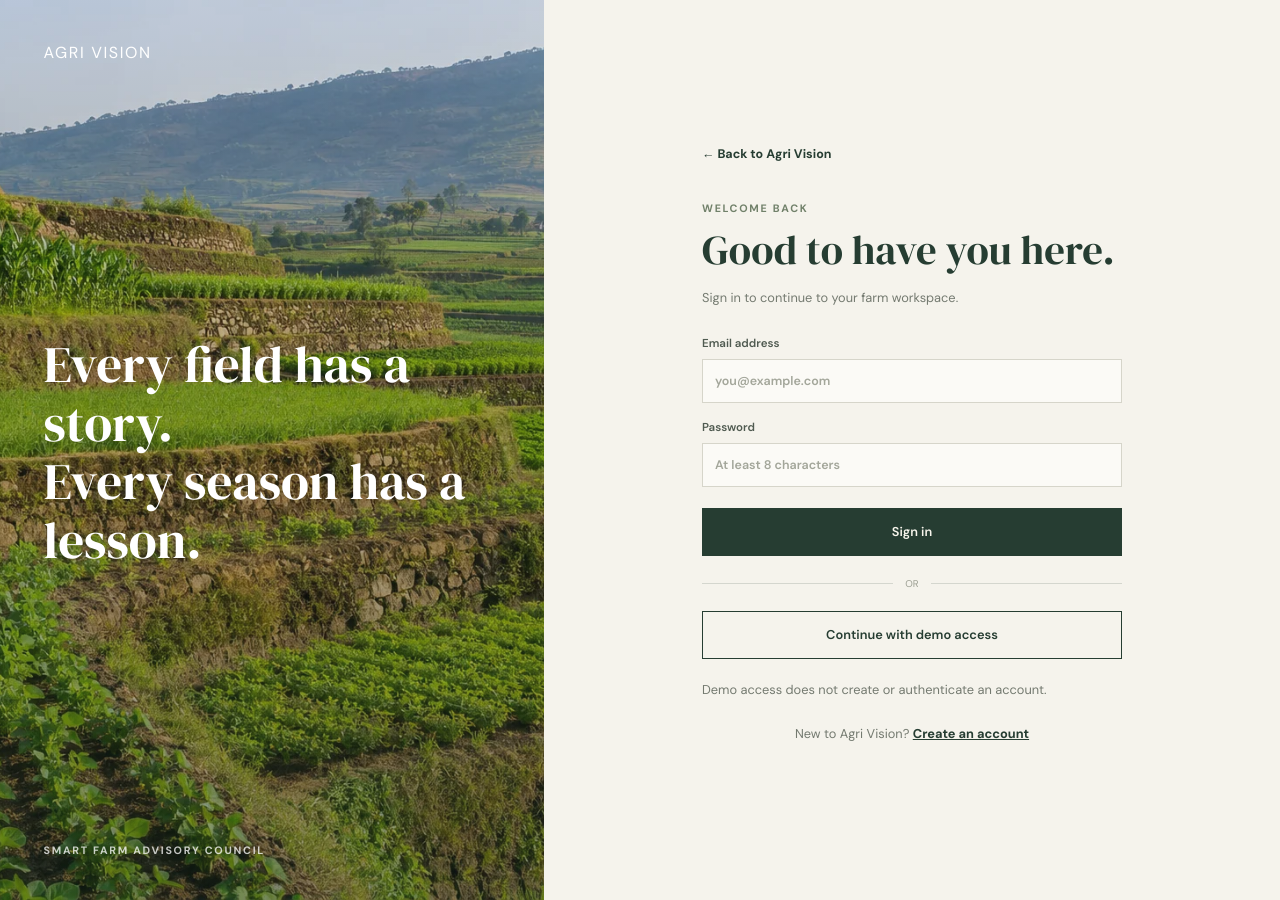
Test: Demo access and account registration UI › registers the selected farm with the backend before navigating to the dashboard
This screenshot has width=1280, height=900.
Click the button "Continue with demo access" at (912, 634), box [702,610,1122,658]
(page scrolled)
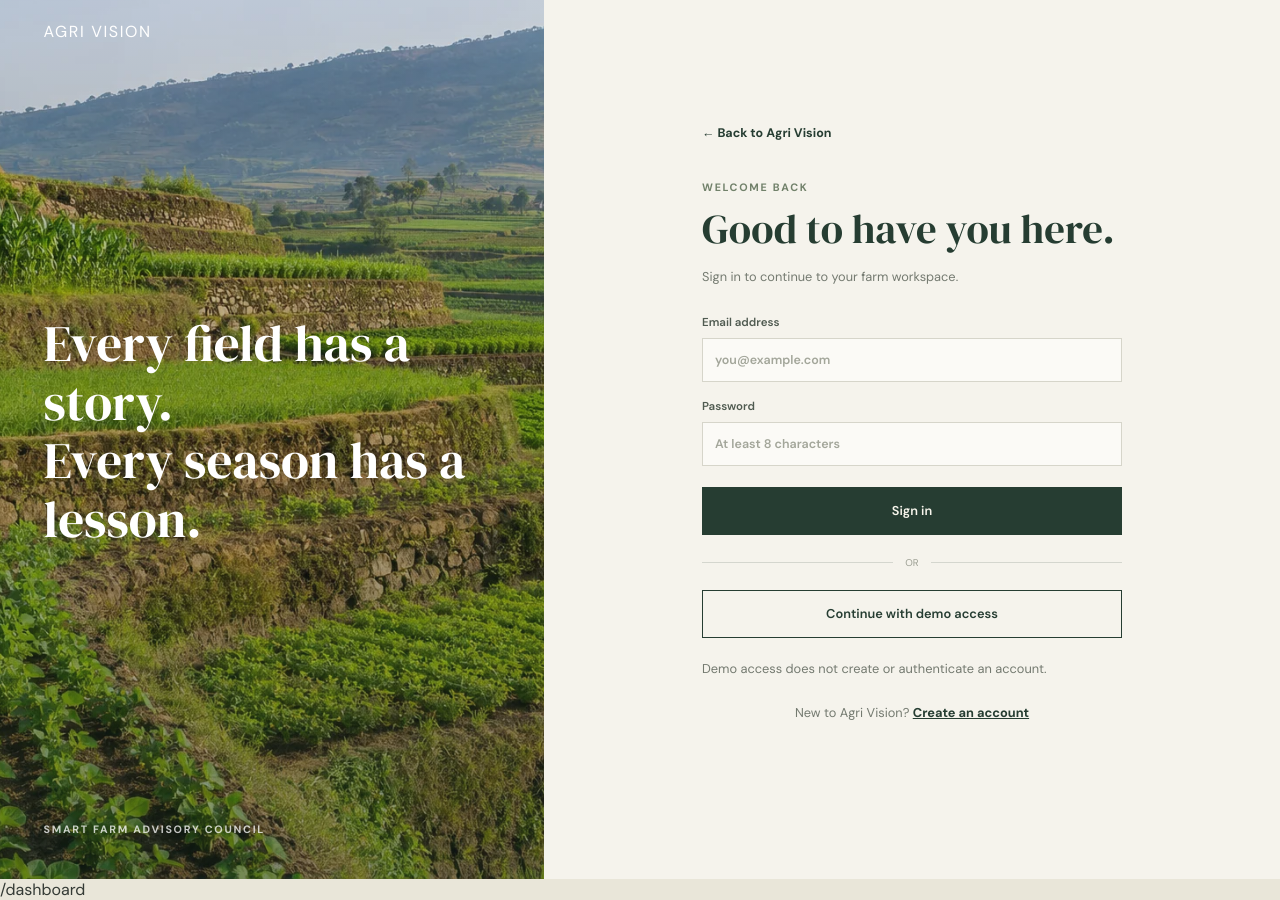
Result: the text "/dashboard" is shown at [0,879,85,899]
